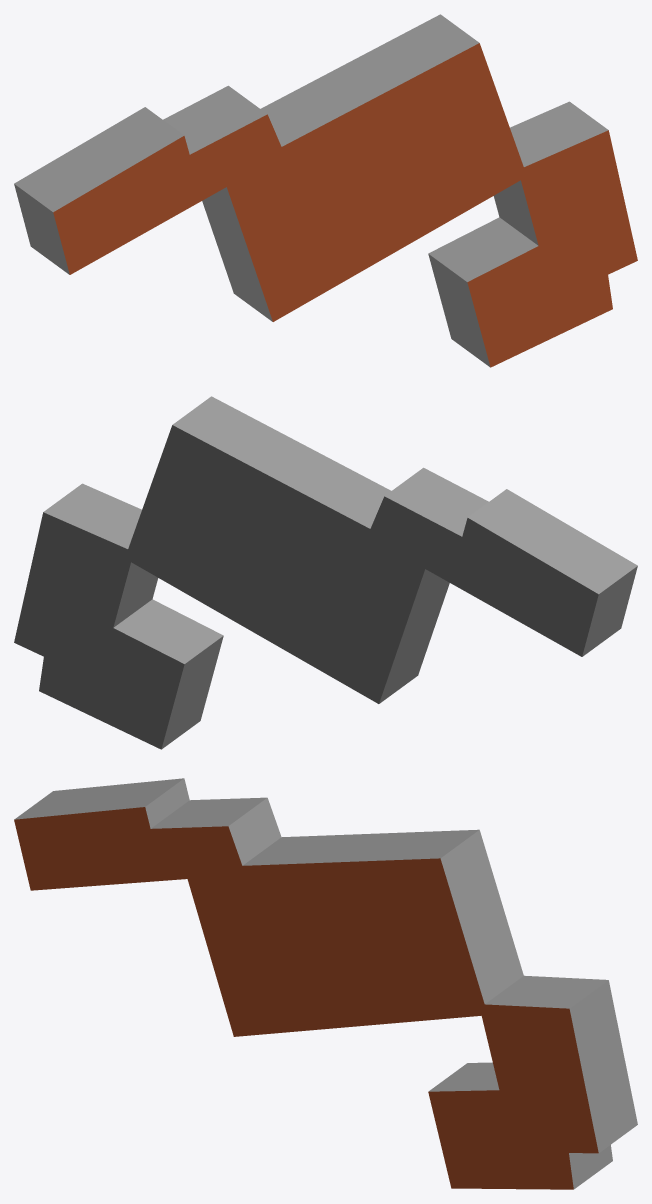
Rendered from construction_5920_assumed_A_Casa_h6m.obj.
3 views of the same model, one above another, from view 1: azimuth 30°, elevation 25°; view 2: azimuth 150°, elevation 25°; view 3: azimuth 330°, elevation 25° (orthographic).
Visible parts, largest first — view 1: construction_5920_assumed_A_Casa; view 2: construction_5920_assumed_A_Casa; view 3: construction_5920_assumed_A_Casa.
Boxes of the visible parts, x1,y1,x2,y2 form: construction_5920_assumed_A_Casa: [14, 14, 637, 367]; construction_5920_assumed_A_Casa: [14, 396, 637, 749]; construction_5920_assumed_A_Casa: [14, 778, 637, 1189].
Size of the model in its own units: 51.68 by 27.65 by 6.
